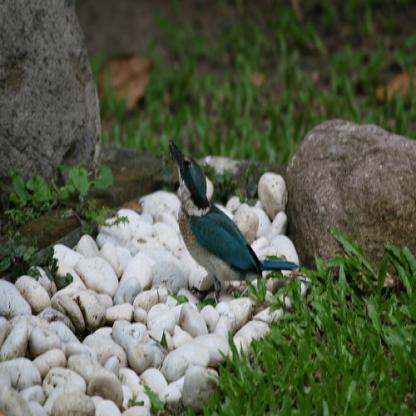bird: (167, 135, 297, 297)
